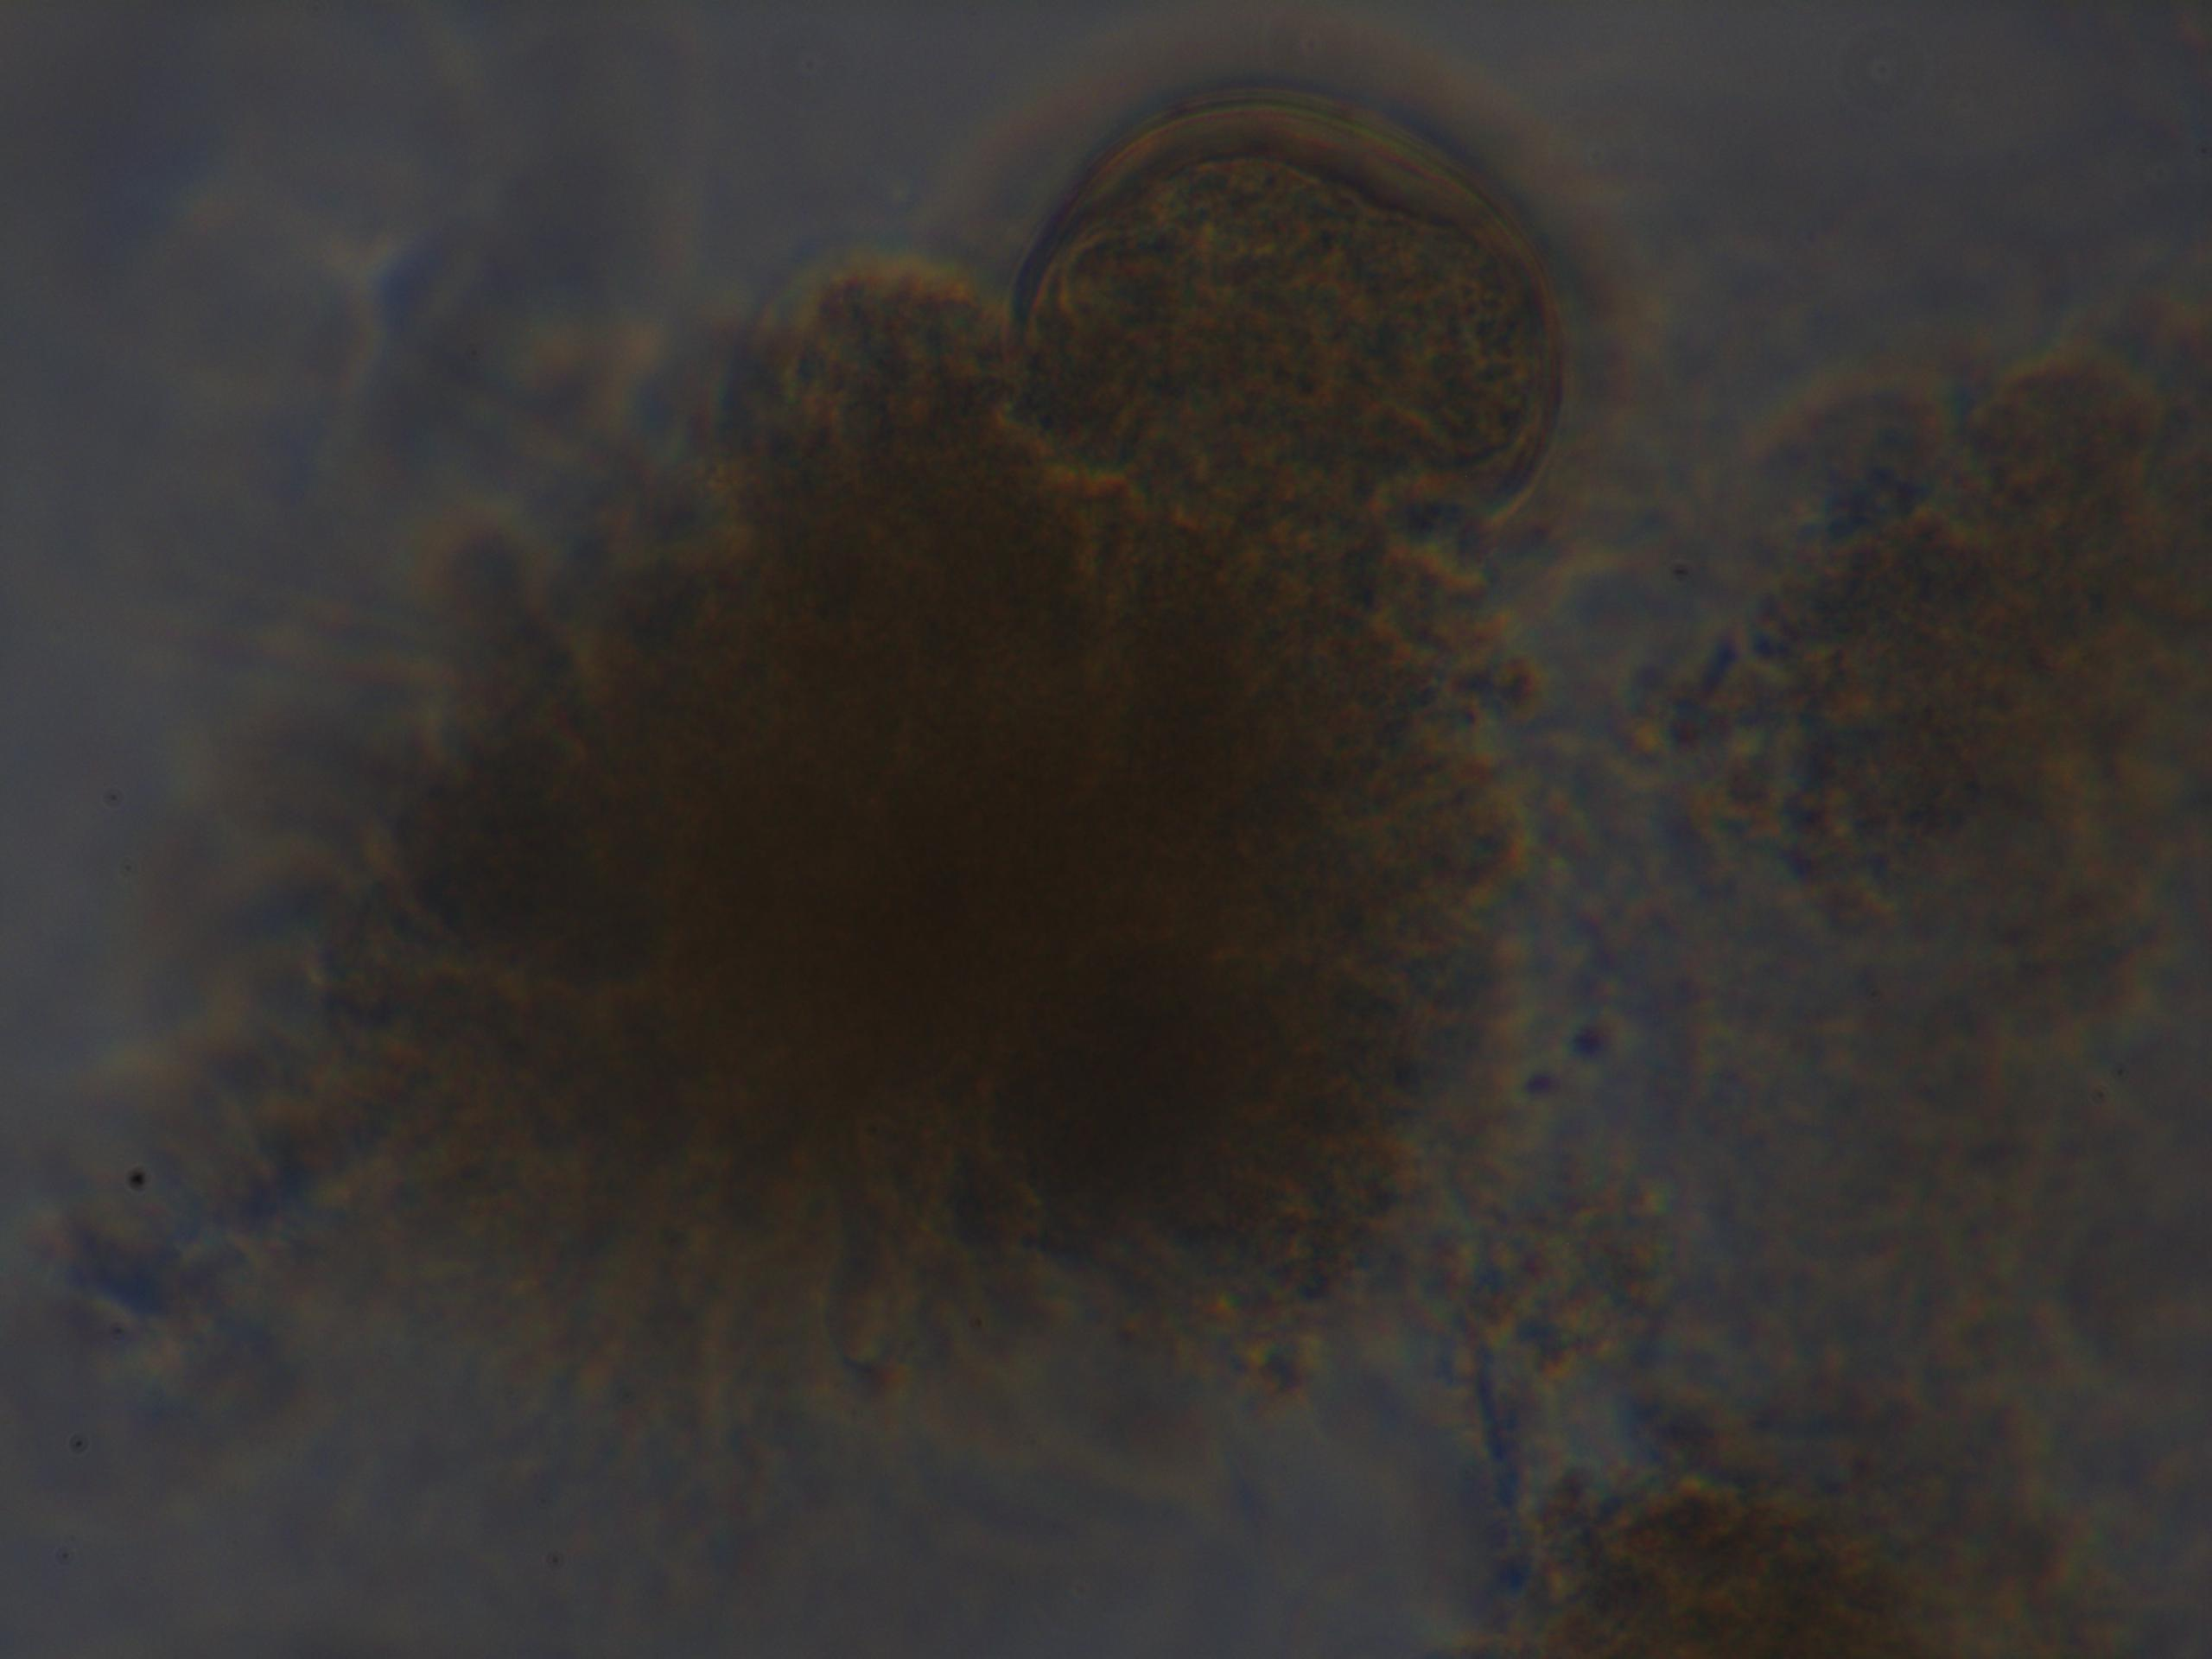protozoa: (958, 87, 1622, 518)
spherical_floc: (258, 286, 1533, 1405)
